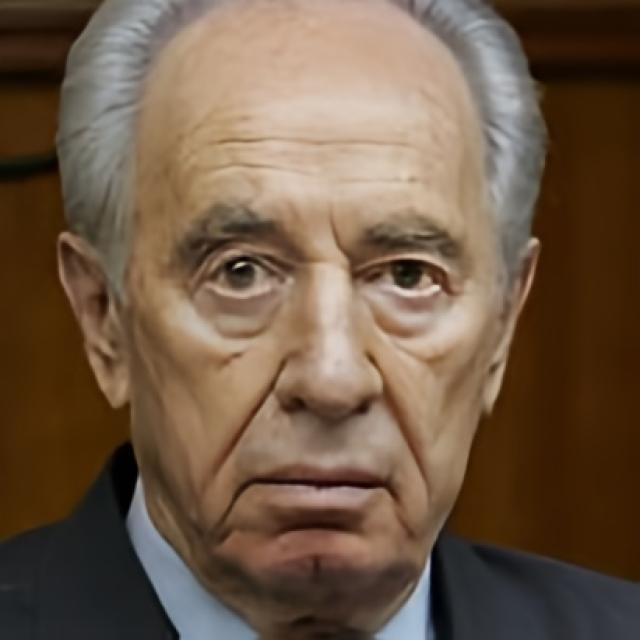sad: (130, 61, 494, 602)
